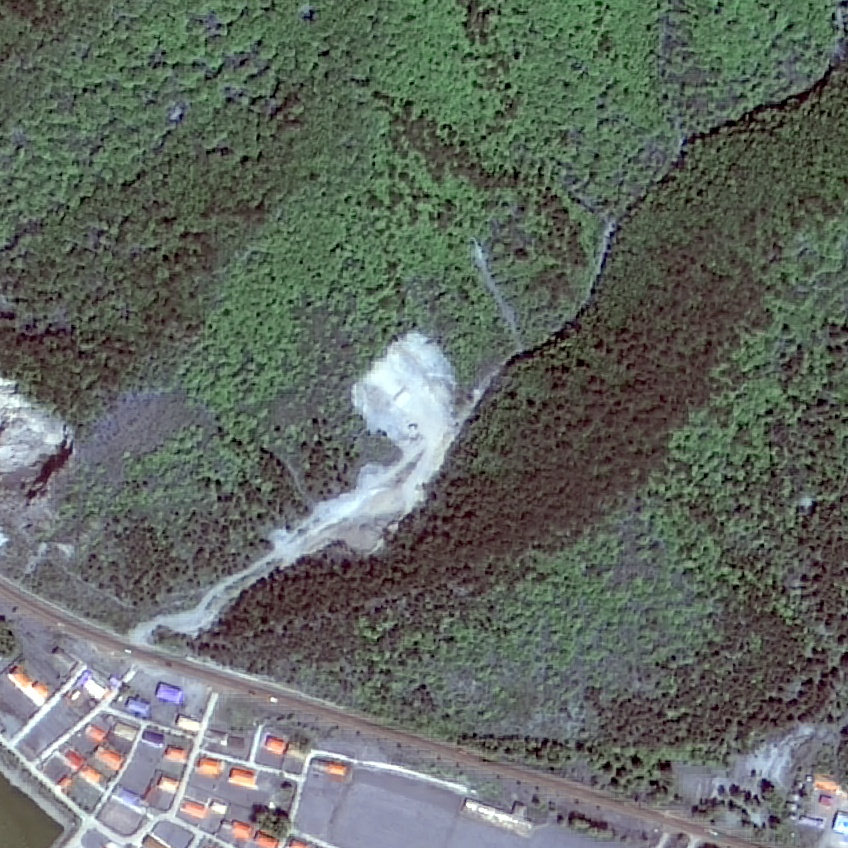slope: (125, 328, 485, 640), (0, 375, 69, 512)
